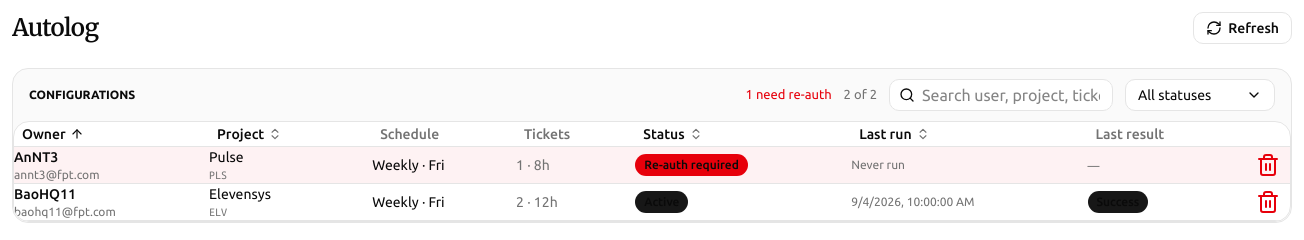
Scenario: AutologTable › filters rows by username
In the field named "Search configurations": (1001, 95) [889,79,1113,111], type "annt"
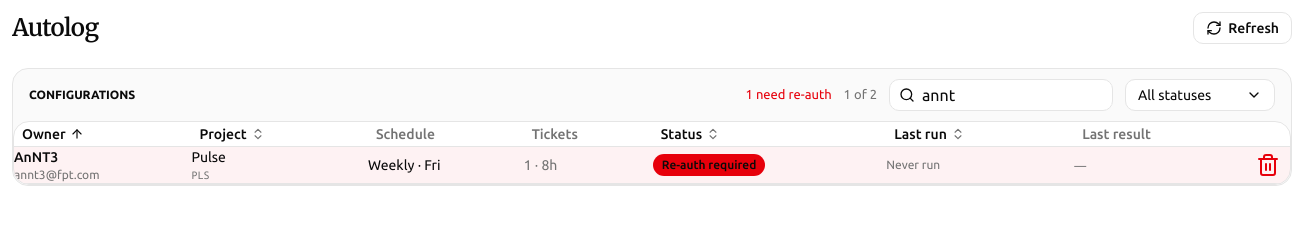
Expected: the text "AnNT3" is shown, [14,149,58,165]
Now the text "BaoHQ11" is gone
Now the text "1 of 2" is shown, box [844,85,877,105]
